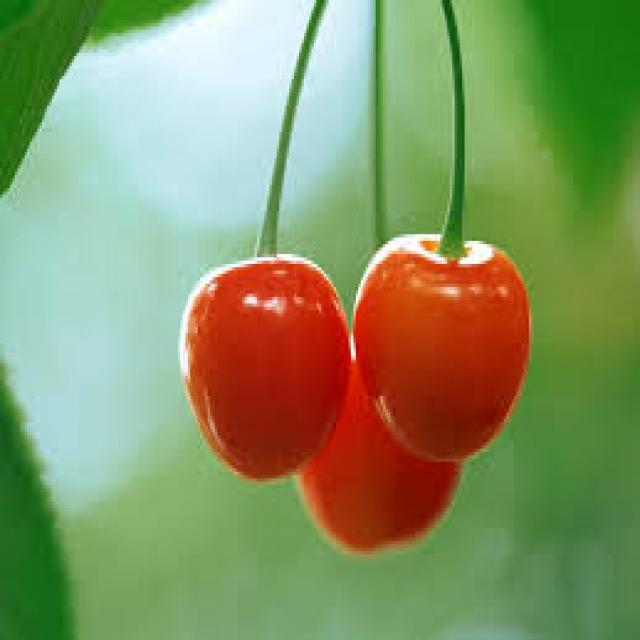organic waste: (351, 224, 531, 452), (178, 250, 353, 482), (292, 330, 462, 551)
